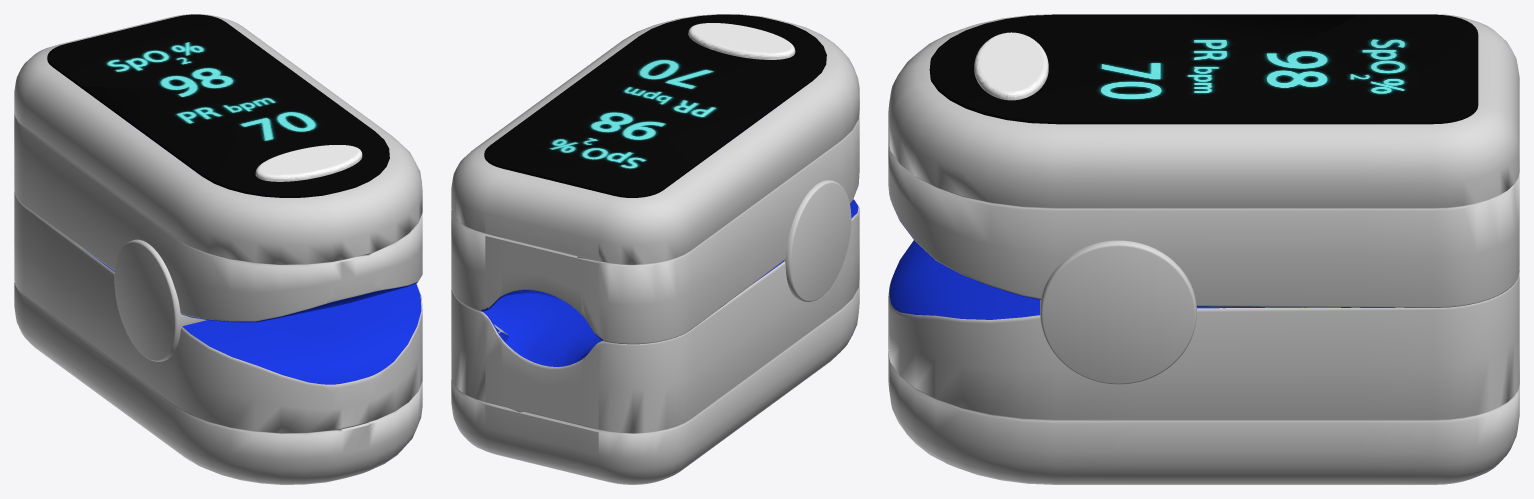
File: oximeter-compressed.glb
The picture shows the model from 3 angles, left to right: view 1: azimuth 30°, elevation 25°; view 2: azimuth 150°, elevation 25°; view 3: azimuth 270°, elevation 25°; orthographic projection. The views are drawn at different scales.
Parts seen in each view (by area): view 1: Oximeter.002; view 2: Oximeter.002; view 3: Oximeter.002.
Boxes of the visible parts, box(x1,y1,x2,y2) form: Oximeter.002: box(14, 14, 422, 484); Oximeter.002: box(451, 14, 859, 484); Oximeter.002: box(888, 14, 1519, 484).
Size of the model in its own units: 0.056 by 0.066 by 0.1012.
Materials: 4 (1 with a texture image).
